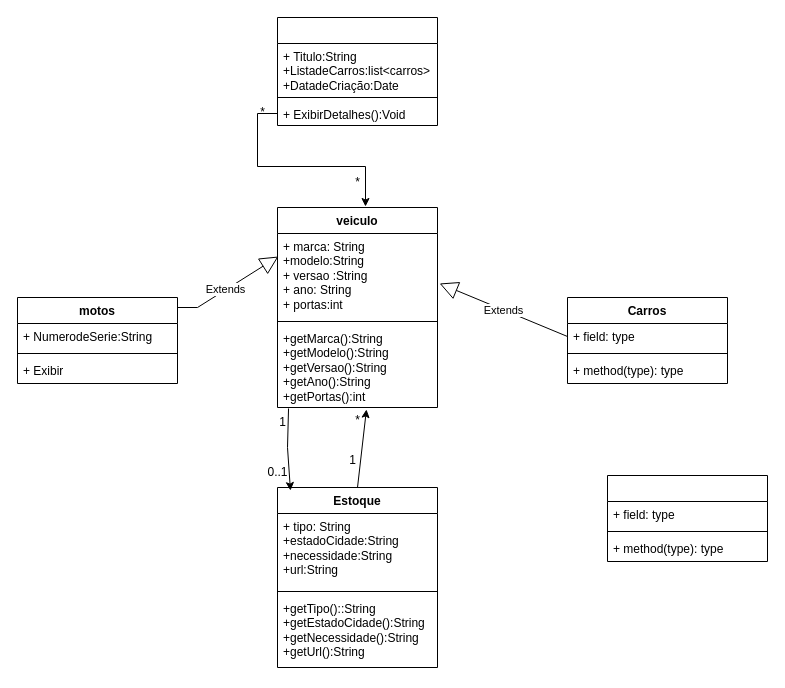
Some shapes in this 785 by 688 pixel diagram are drawn without their labels. Each missing label, with the box of its shape:
Anuncio: (276, 16, 438, 126)
Classname: (606, 474, 768, 562)
